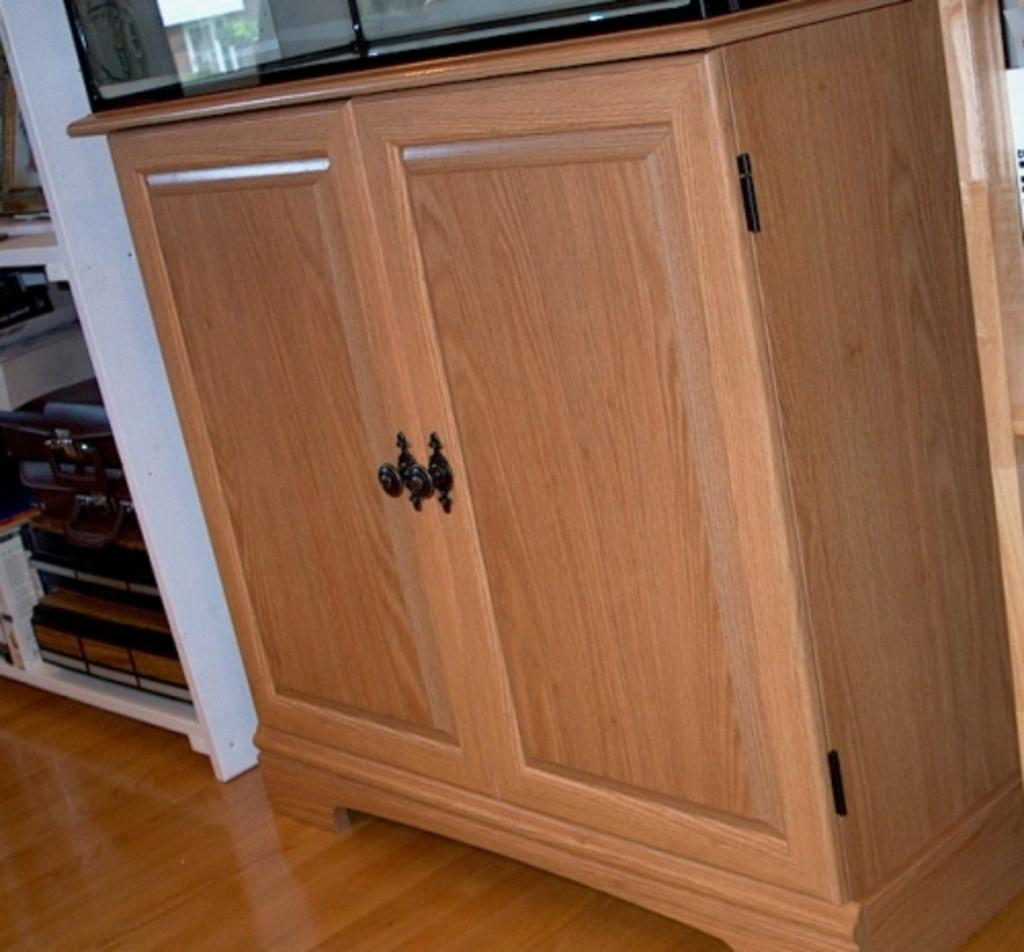cabinet_door: (379, 104, 747, 772), (142, 144, 410, 713)
handle: (408, 455, 446, 512), (376, 456, 411, 508)
